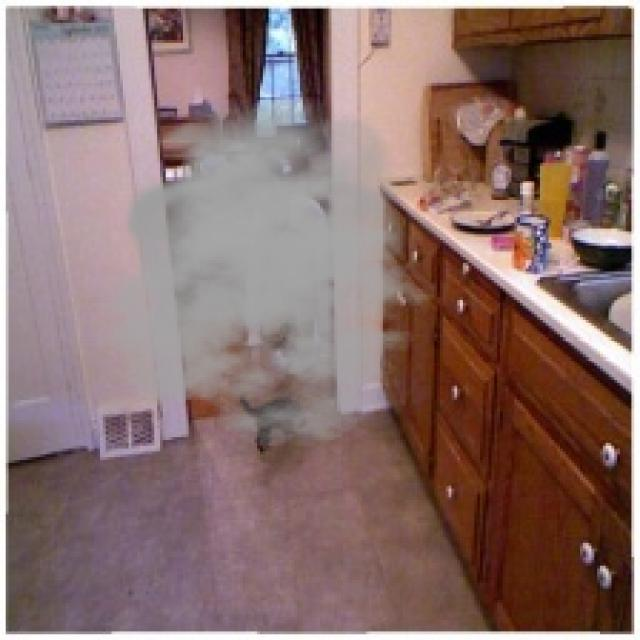smoke: (94, 94, 452, 449)
